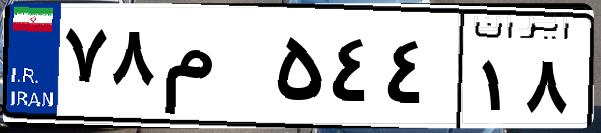1: (475, 38, 525, 113)
4: (385, 28, 445, 110), (330, 28, 385, 110)
5: (270, 28, 330, 110)
7: (57, 26, 110, 100)
8: (525, 38, 570, 115), (110, 28, 158, 98)
م: (158, 20, 270, 120)
